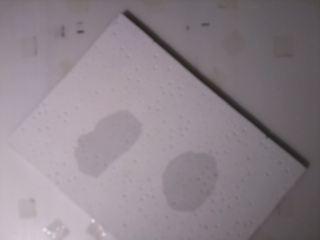Water_detected: (79, 116, 136, 164), (171, 154, 213, 208)
